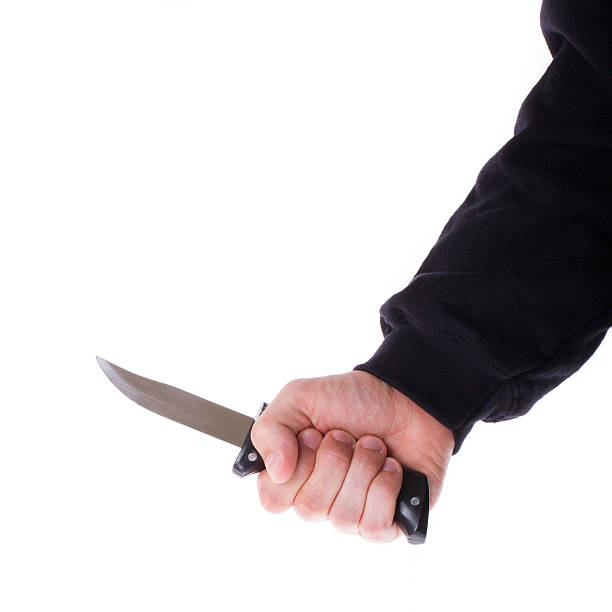knife: (91, 350, 274, 477)
